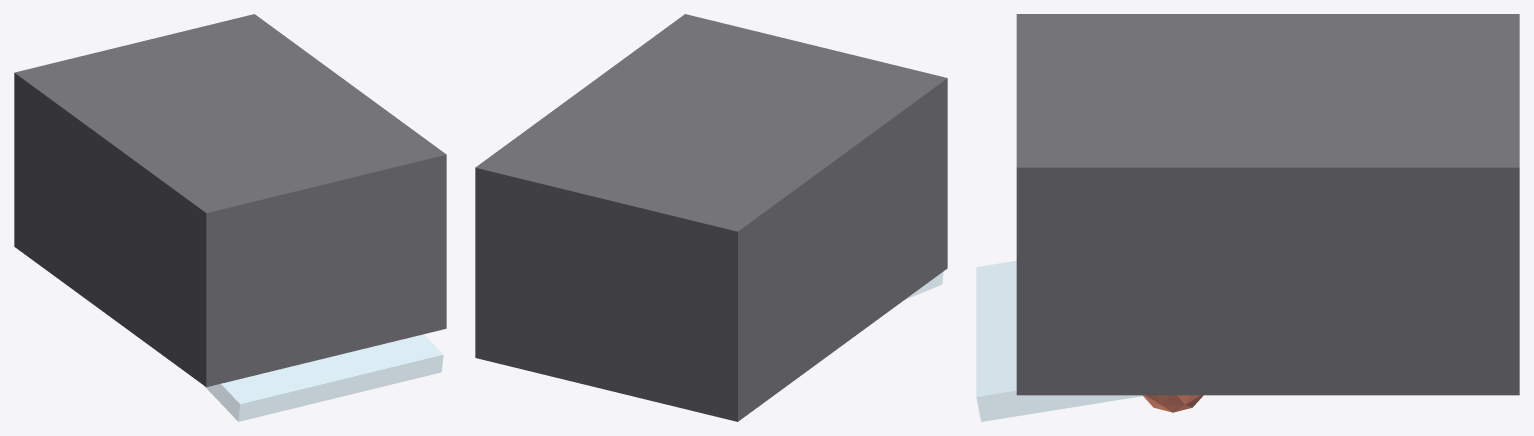
File: industrial_warning_console.glb
3 renders of one model, left to right at view 1: azimuth 30°, elevation 25°; view 2: azimuth 150°, elevation 25°; view 3: azimuth 270°, elevation 25°, orthographic. The views are drawn at different scales.
Visible parts, largest first — view 1: stand, screen; view 2: stand; view 3: stand, screen, red_button.
Boxes of the visible parts, x1,y1,x2,y2 form: stand: [14, 14, 446, 387]; screen: [206, 334, 443, 421]; stand: [475, 14, 947, 421]; stand: [1016, 14, 1519, 395]; screen: [976, 261, 1144, 421]; red_button: [1143, 395, 1203, 412].
Bounding box in the file's own units: 0.65 × 0.545 × 0.9721.
